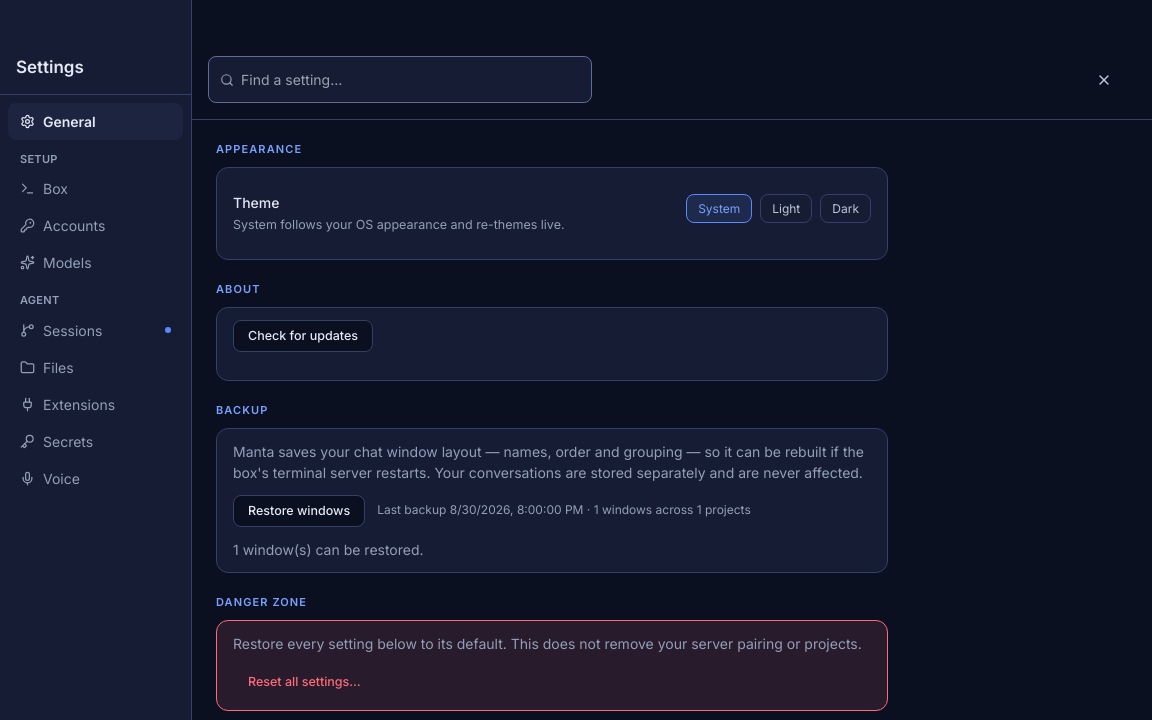
Test case: Settings — Backup section (BET-1455) › restore reports success via the server's describeRestore copy, then re-previews in place
The image size is (1152, 720).
Click the button "Restore windows": (299, 511) [233, 495, 365, 527]
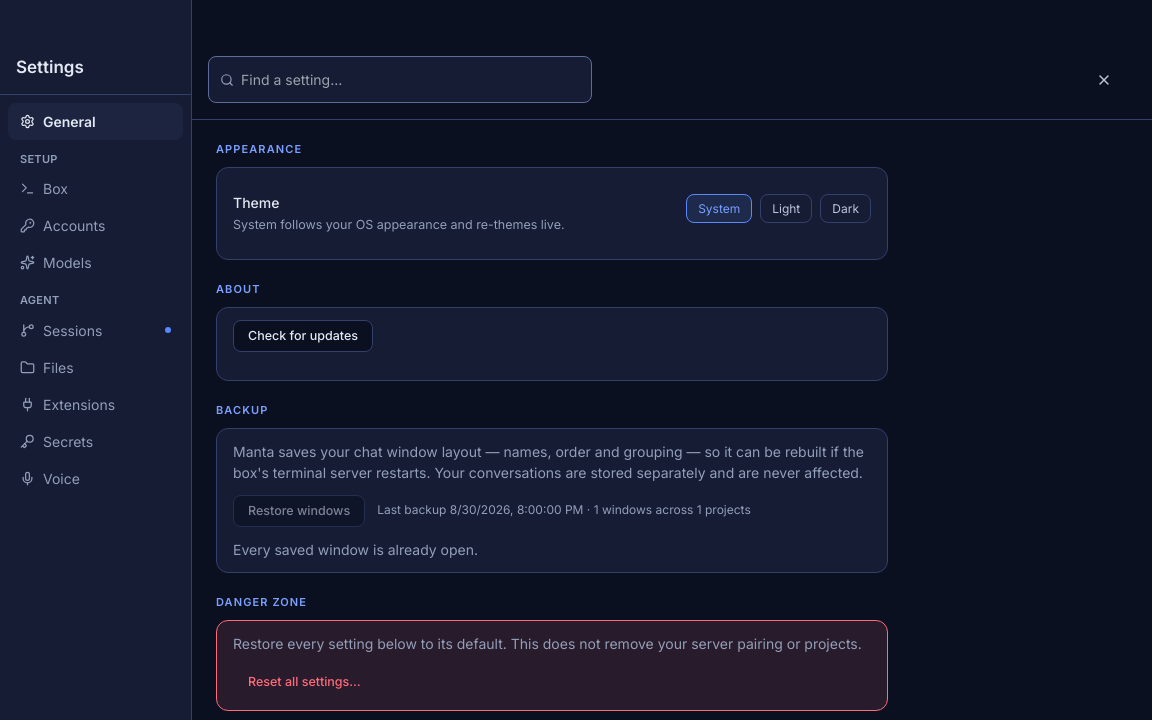
Expected: the panel shows "Every saved window is already open.", [233, 541, 478, 558]
